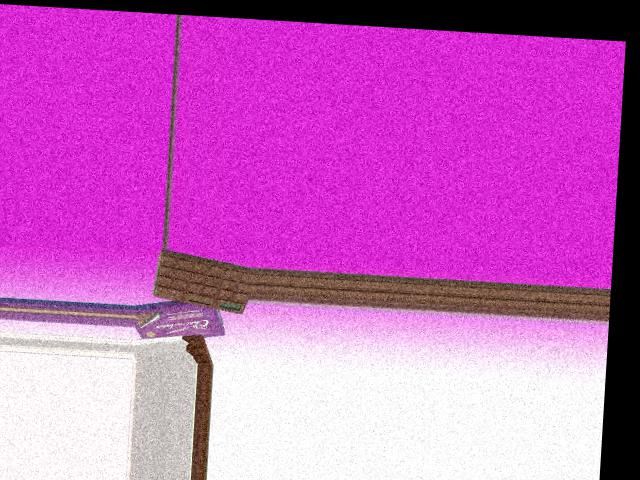chocolate: (153, 248, 247, 316)
